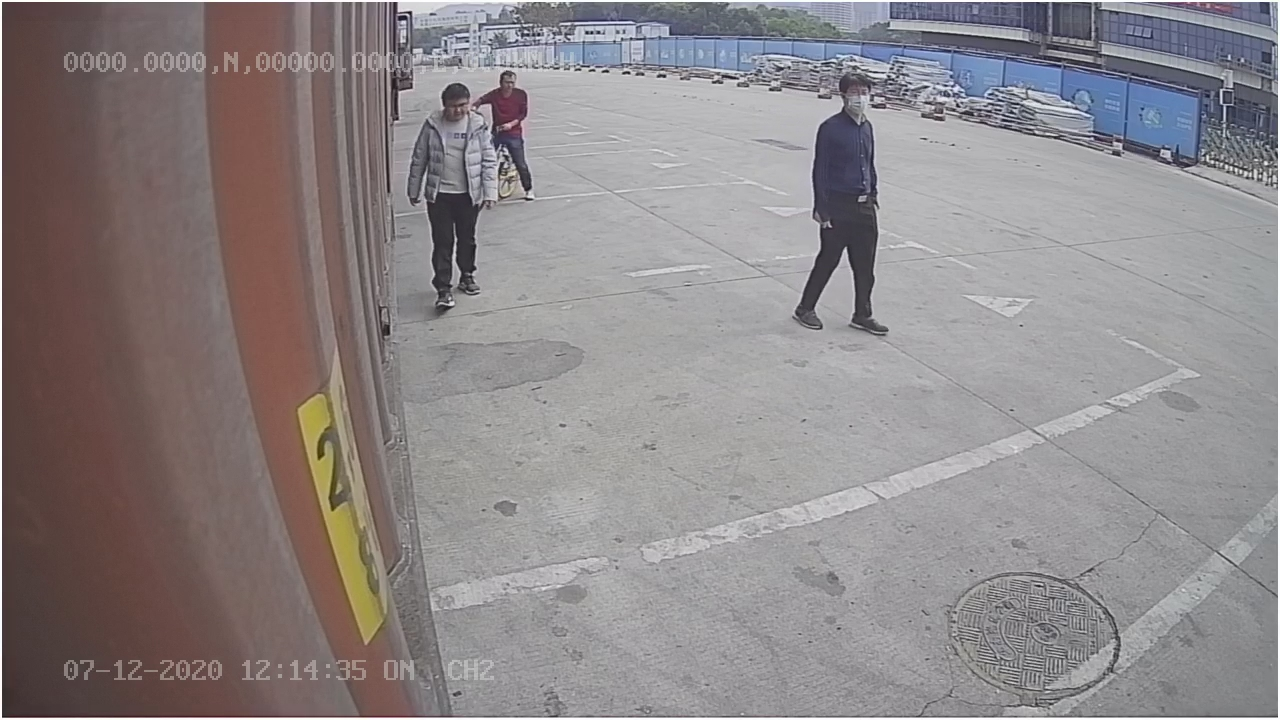person: (791, 73, 894, 345)
